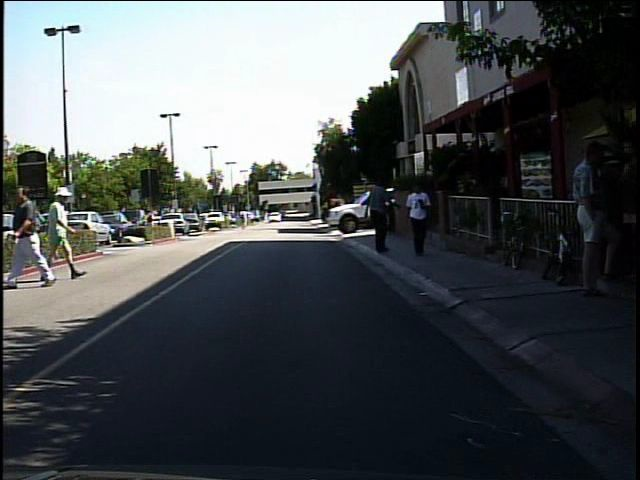person: (568, 133, 617, 301), (6, 181, 55, 292), (607, 138, 637, 282), (44, 183, 85, 280), (358, 173, 398, 255), (403, 177, 440, 261), (144, 202, 160, 238), (236, 204, 252, 229)
